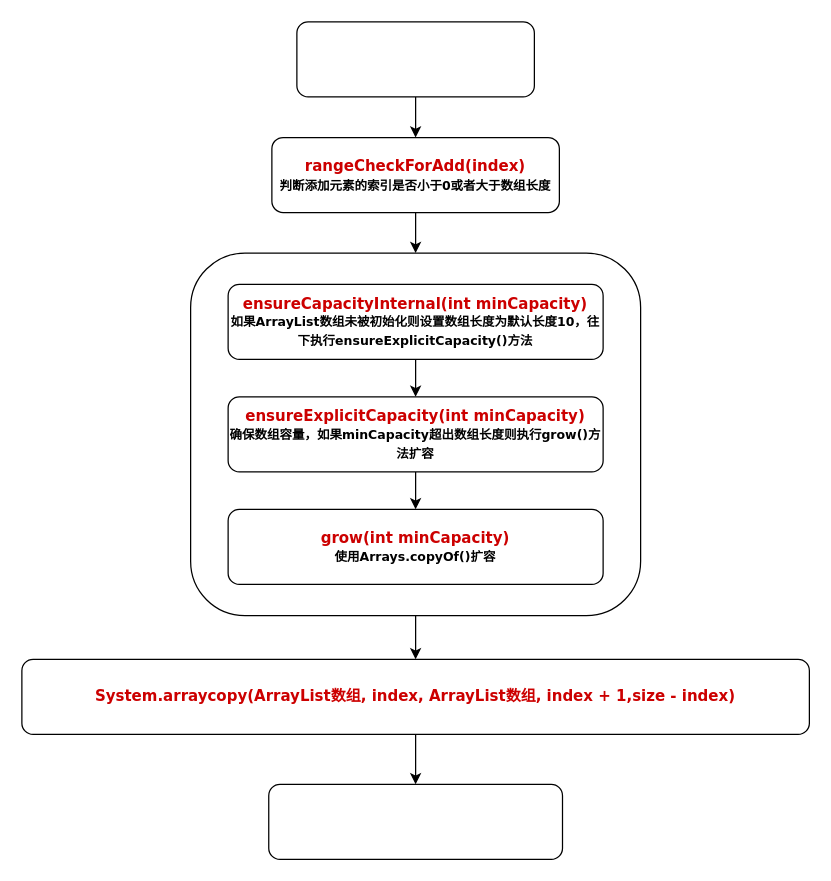
This 831x881 diagram has some shape labels left out. The centre of each missing label's shape, as x and y in pixels:
"add(int index, E e)" goes at point (415, 59).
"elementData [index] = element" goes at point (415, 821).
